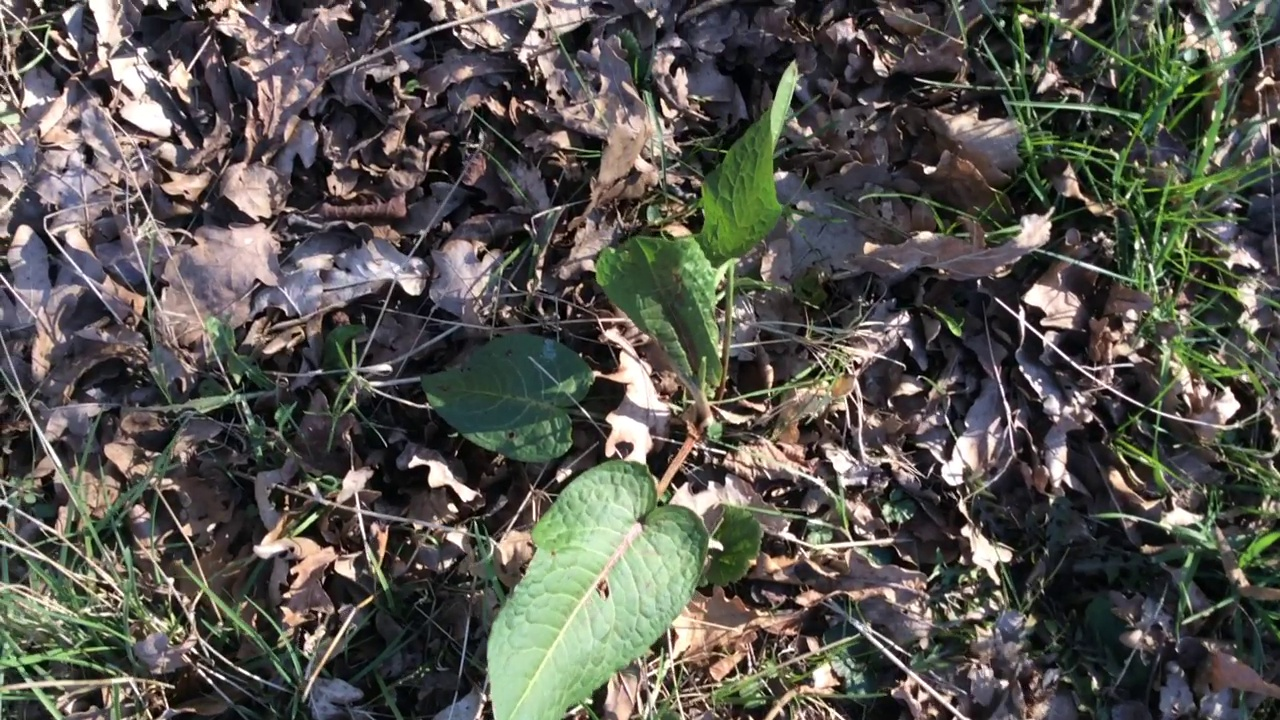rumex: (422, 62, 800, 720)
